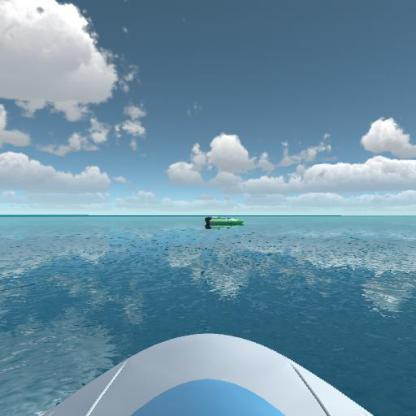usv0: (200, 211, 247, 233)
